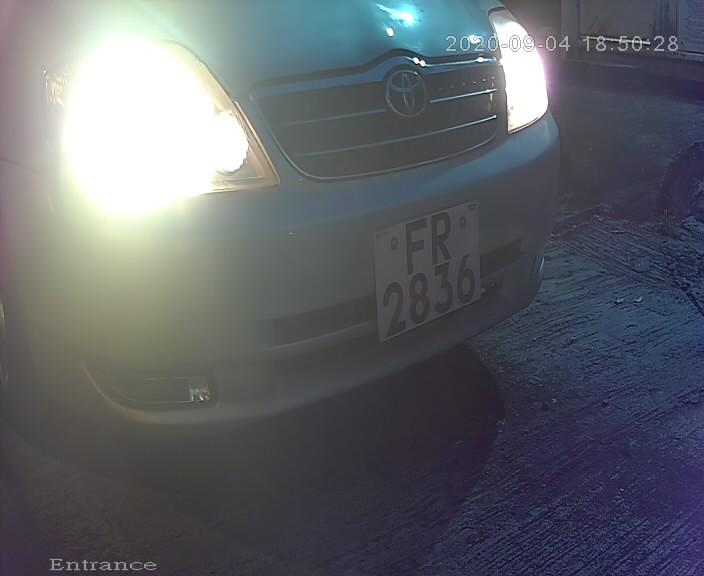License Plate: (364, 189, 494, 345)
